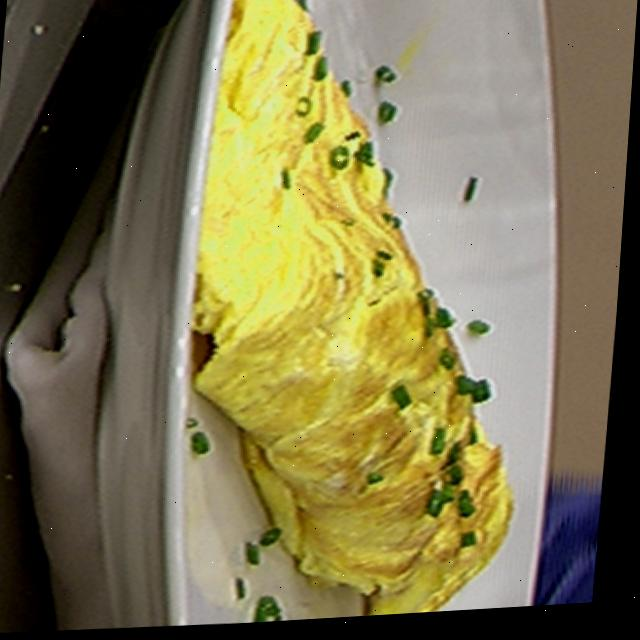鸡蛋料理: (151, 0, 622, 631)
